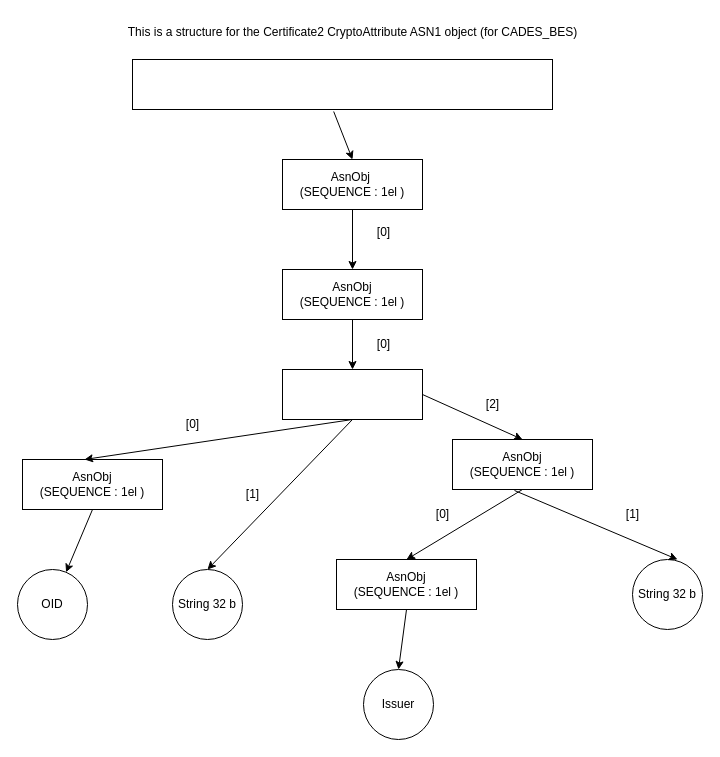
Some shapes in this 720 by 757 pixel diagram are drawn without their labels. Each missing label, with the centre of its shape:
"AsnObj (SEQUENCE : 3el )" goes at [352,394].
"CryptoAttribute id =szCPOID_RSA_SMIMEaaSigningCertificateV2" goes at [342,84].
